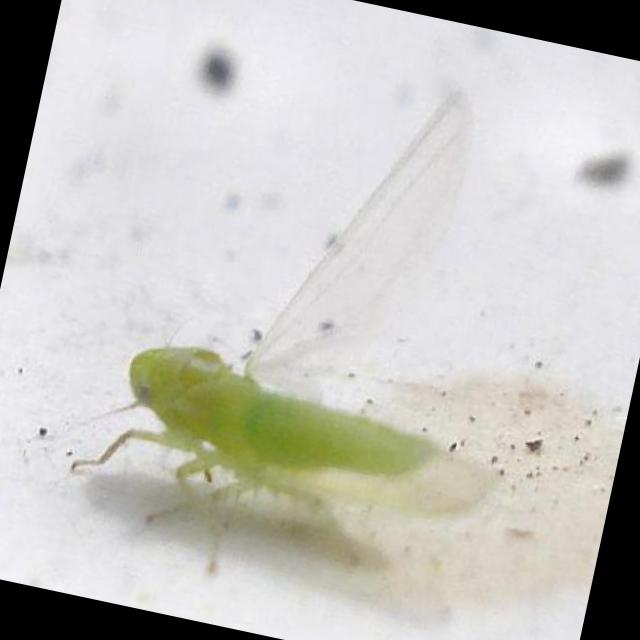green-leafhopper: (94, 327, 507, 582)
